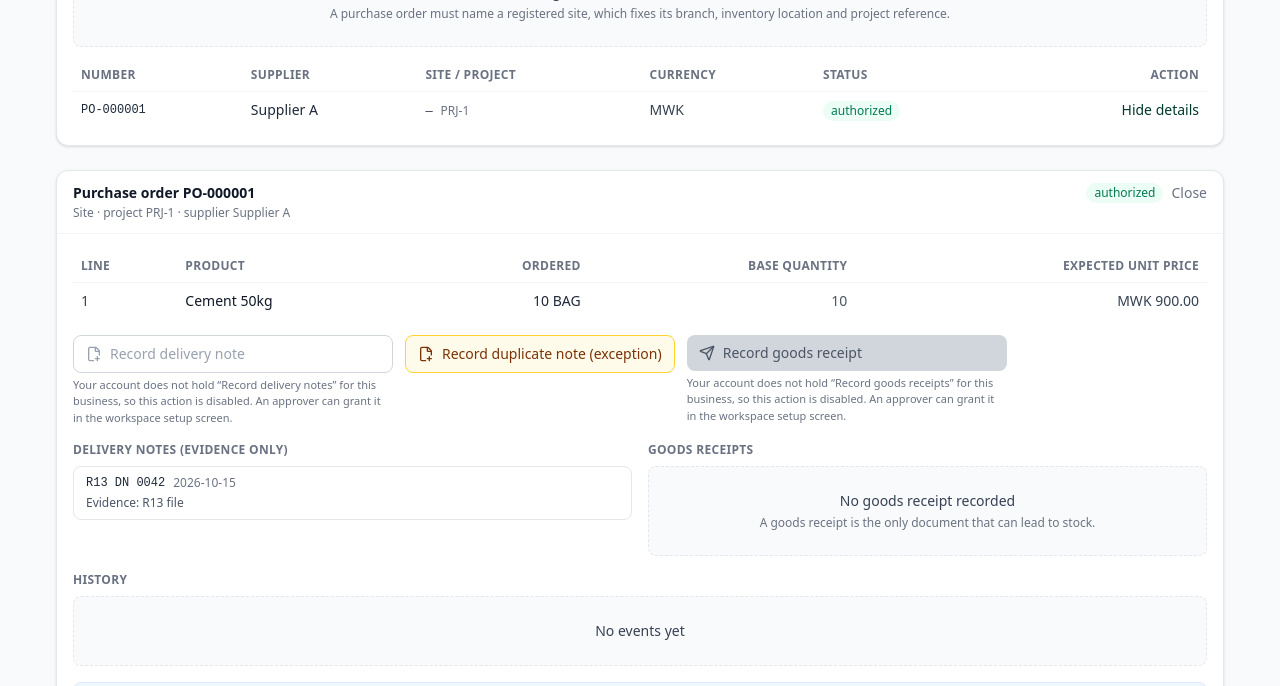
Test: delivery-note exception screen › shows the server refusal with its documented explanation when the named note does not conflict
The image size is (1280, 686).
(page scrolled)
Click the button "Record duplicate note (exception)" at [540, 354], box [405, 334, 675, 372]
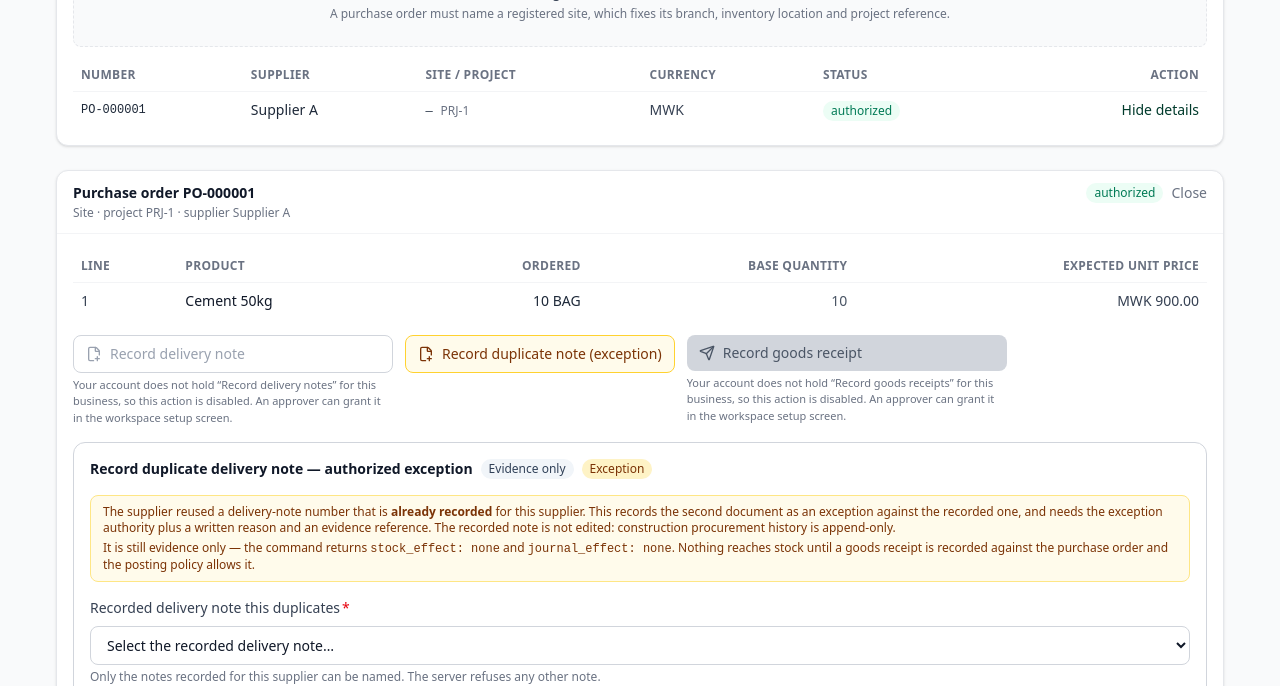
Select "R13 DN 0042 · 2026-10-15 · evidence R13 file" in the dropdown labelled "Recorded delivery note this duplicates" at [640, 646], box [90, 626, 1190, 665]
(page scrolled)
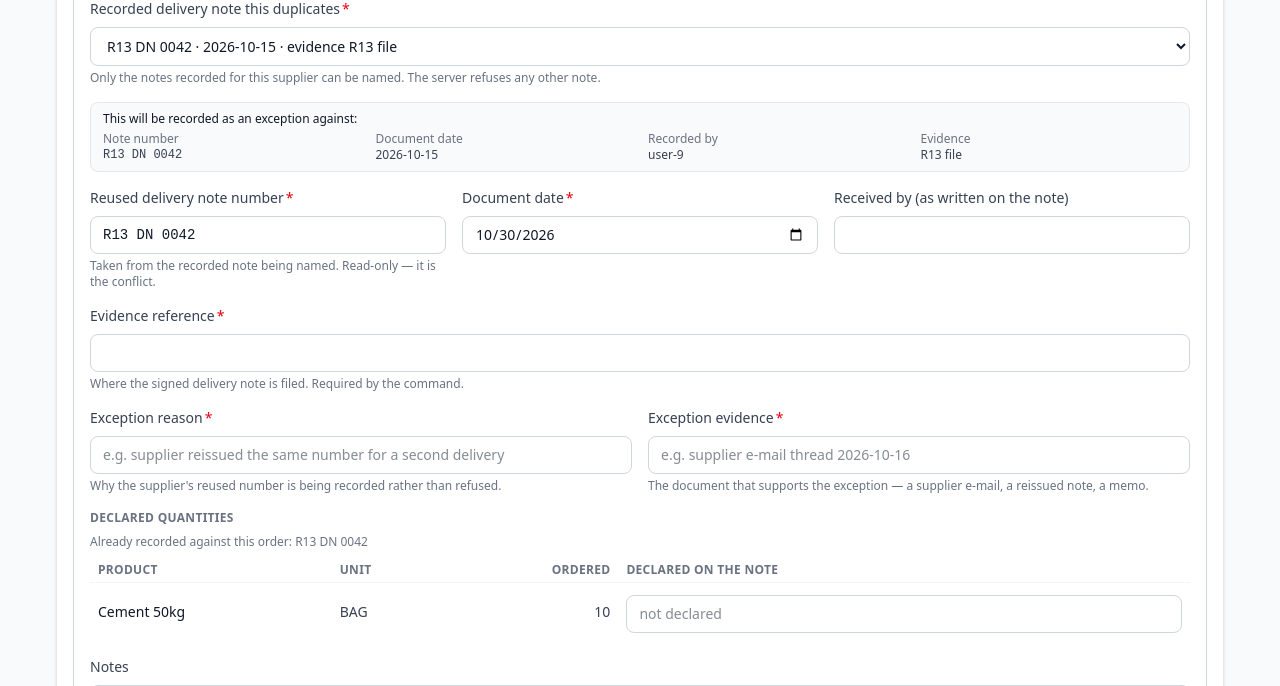
Type "file" into the field labelled "Evidence reference" at [640, 353], box [90, 334, 1190, 372]
Type "reissued" into the field labelled "Exception reason" at [361, 455], box [90, 436, 632, 474]
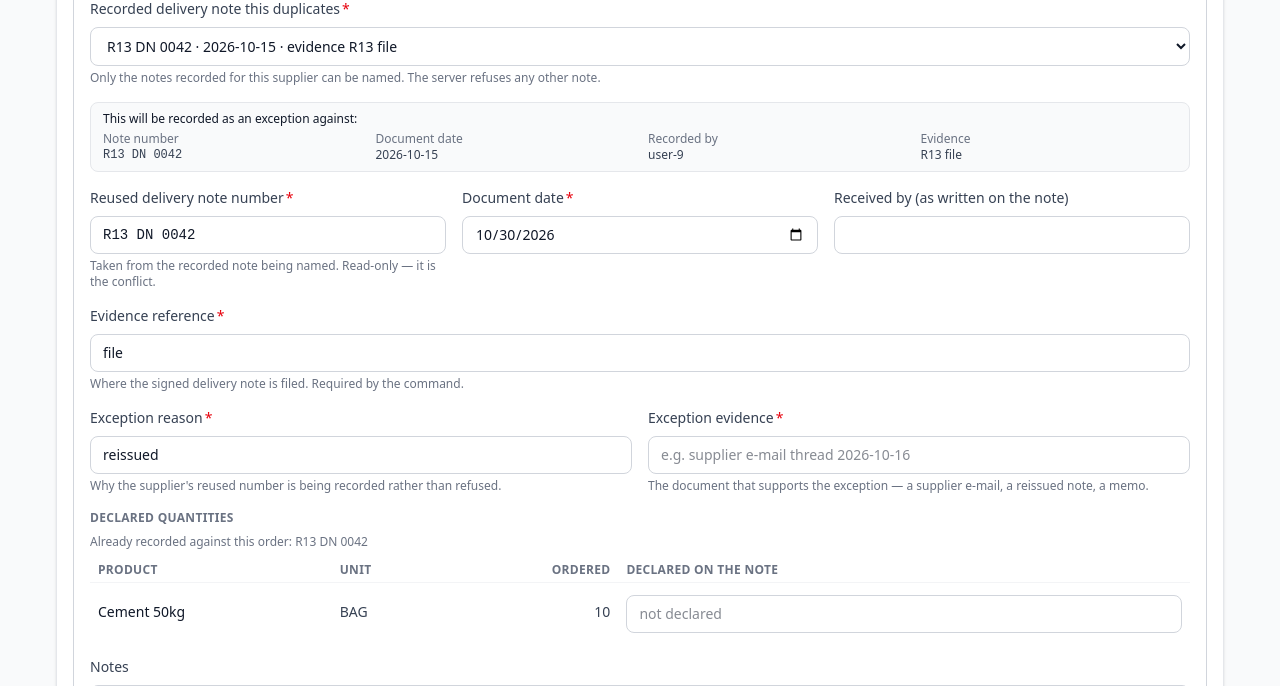
Type "e-mail" into the field labelled "Exception evidence" at [919, 455], box [648, 436, 1190, 474]
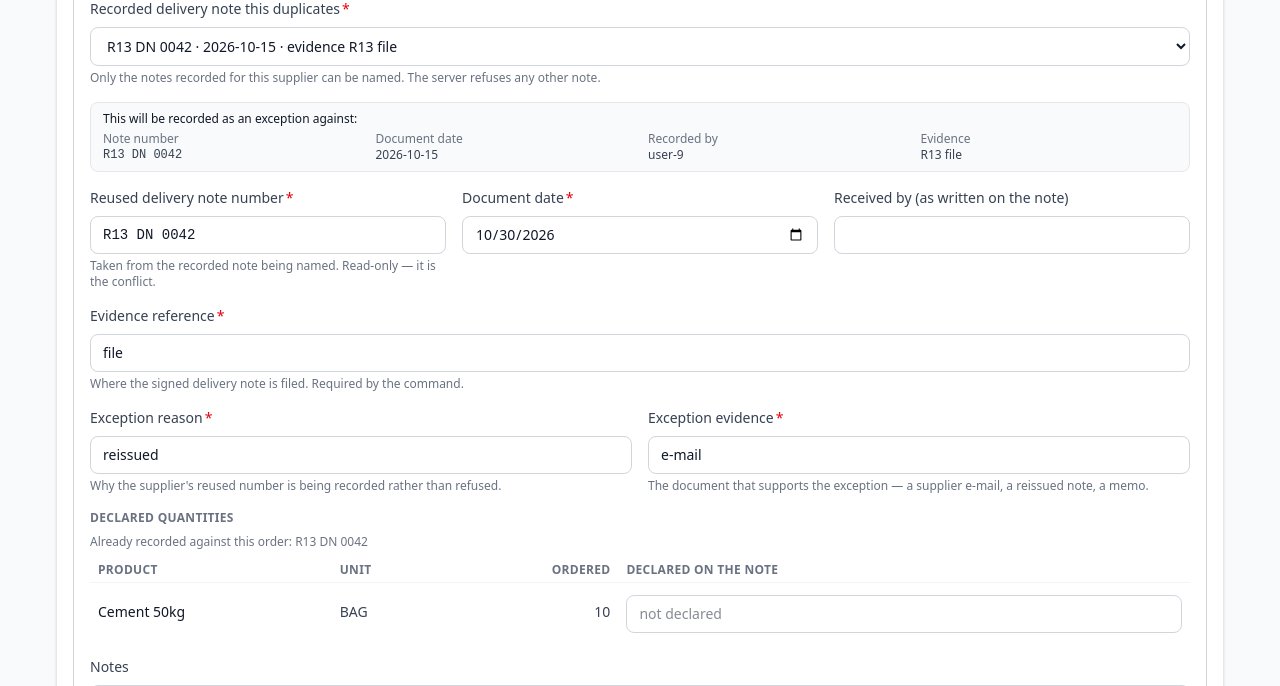
Type "2" into the number field named "Declared quantity for line 1" at [904, 614], box [626, 595, 1182, 633]
(page scrolled)
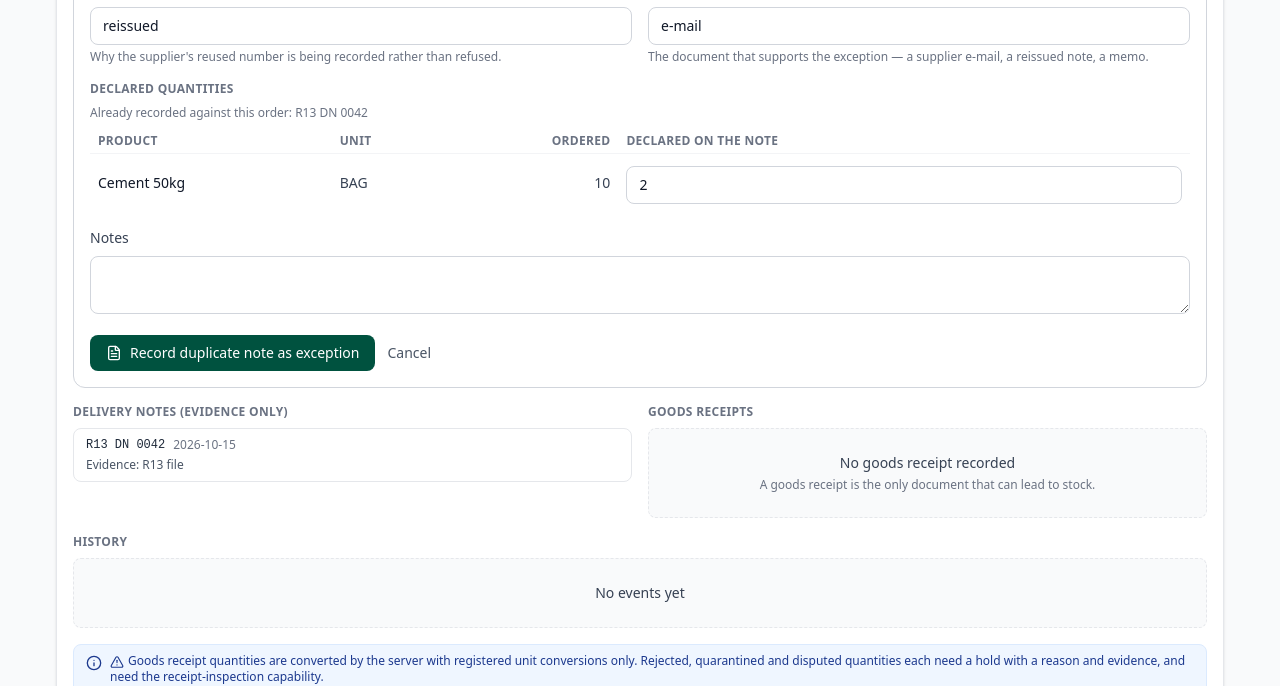
Click the button "Record duplicate note as exception" at [233, 353], box [90, 335, 376, 371]
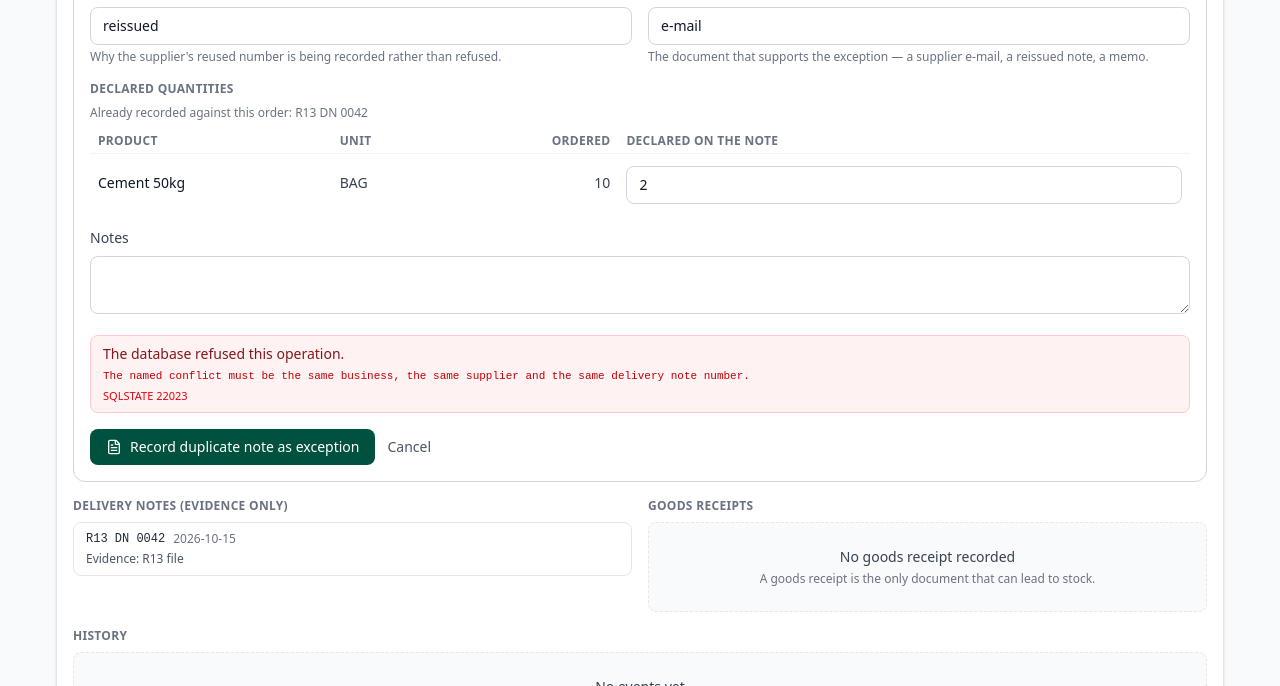
Expected: the text "same business, the same supplier and the same delivery note number" is shown, [103, 370, 750, 382]
Expected: the text "SQLSTATE 22023" is shown, [103, 388, 188, 403]
